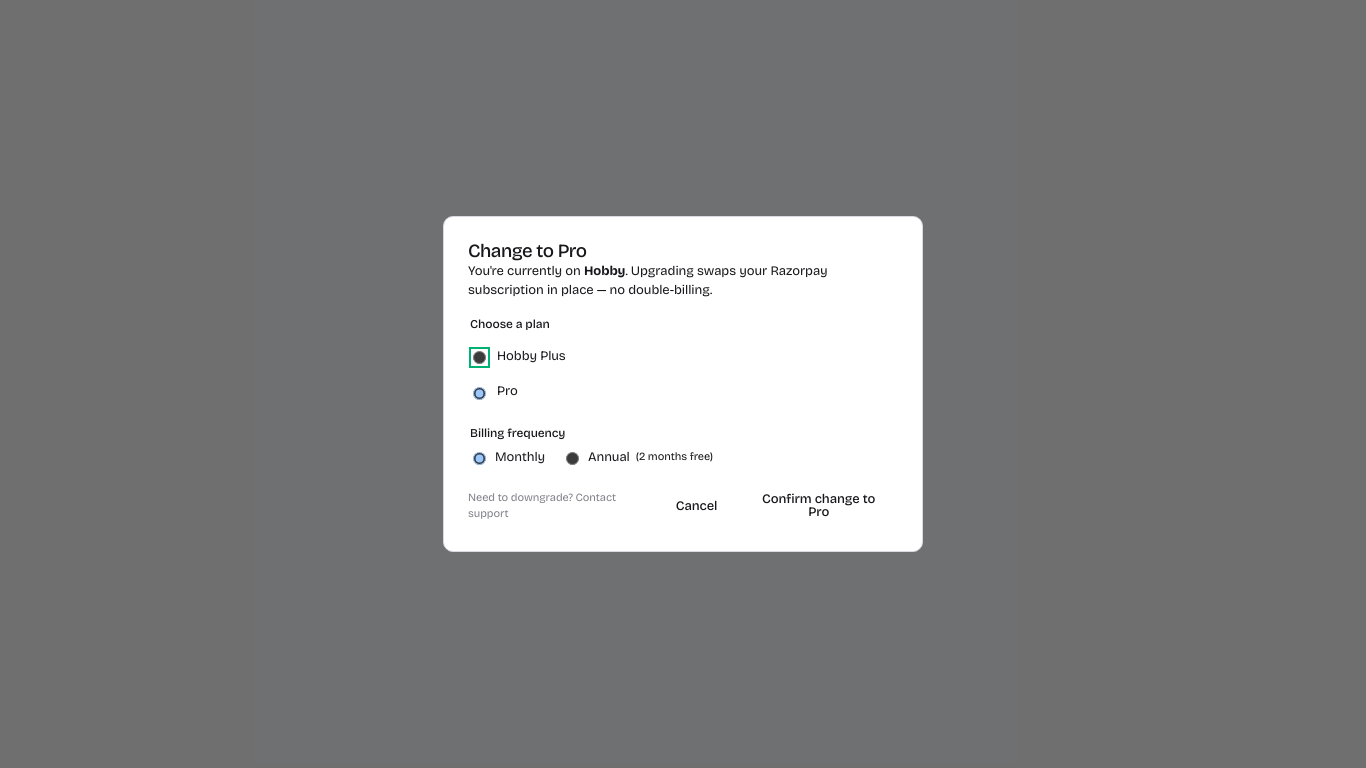
Test: ChangePlanModal — confirm flow › does not navigate when the server returns immediate:true (no short_url path)
Step 1. Click the button with test id "change-plan-confirm" → (819, 506), box x1=739 y1=485 x2=898 y2=527
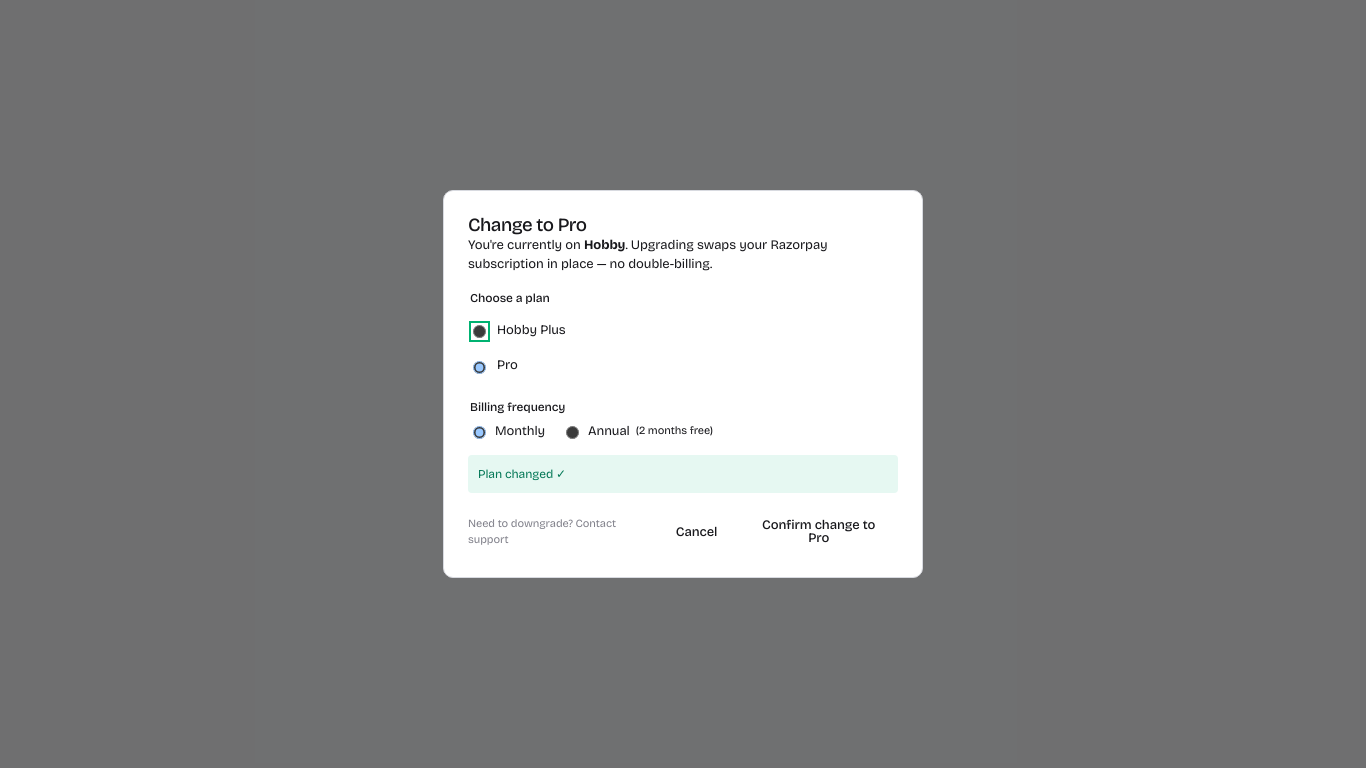
expect the message "Plan changed ✓" is shown: met, box x1=468 y1=455 x2=898 y2=493
